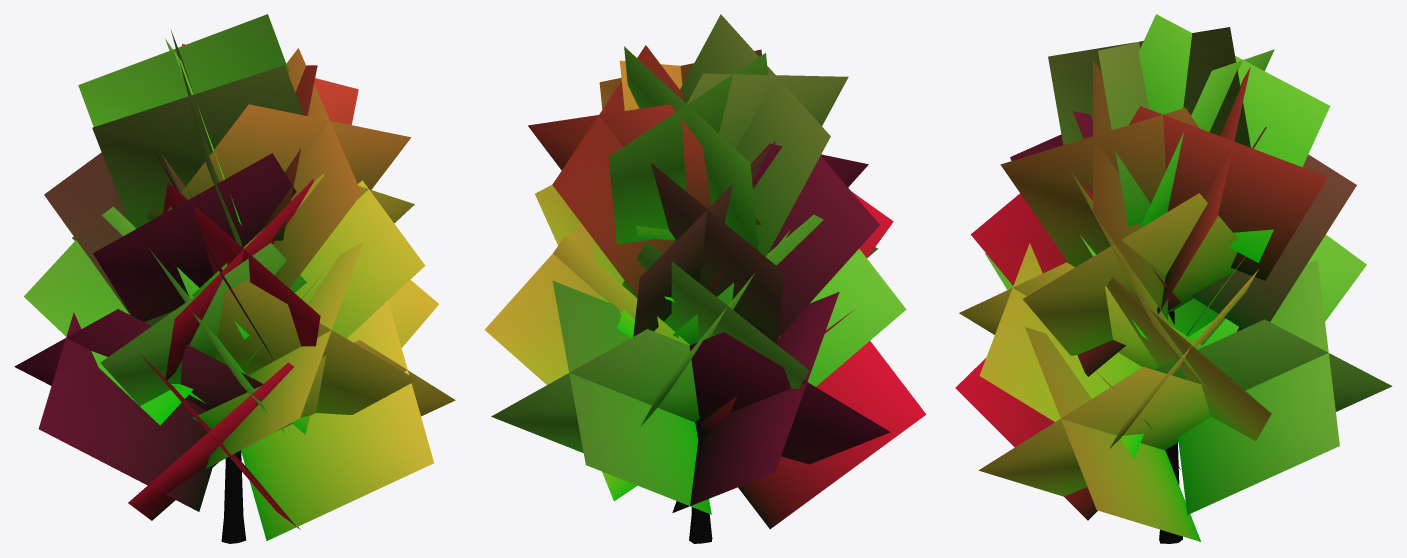
The model's file is Tree_1.fbx.
3 views of the same model, side by side, from view 1: azimuth 30°, elevation 25°; view 2: azimuth 150°, elevation 25°; view 3: azimuth 270°, elevation 25° (orthographic).
Visible parts, largest first — view 1: Tree_1; view 2: Tree_1; view 3: Tree_1.
Part boxes in pixels (<box>): Tree_1: <box>14,14,455,543</box>; Tree_1: <box>484,14,926,543</box>; Tree_1: <box>955,14,1392,543</box>.
Bounding box in the file's own units: 436 × 546 × 436.
